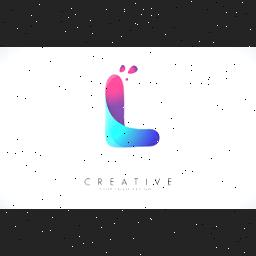l: (101, 71, 161, 155)
